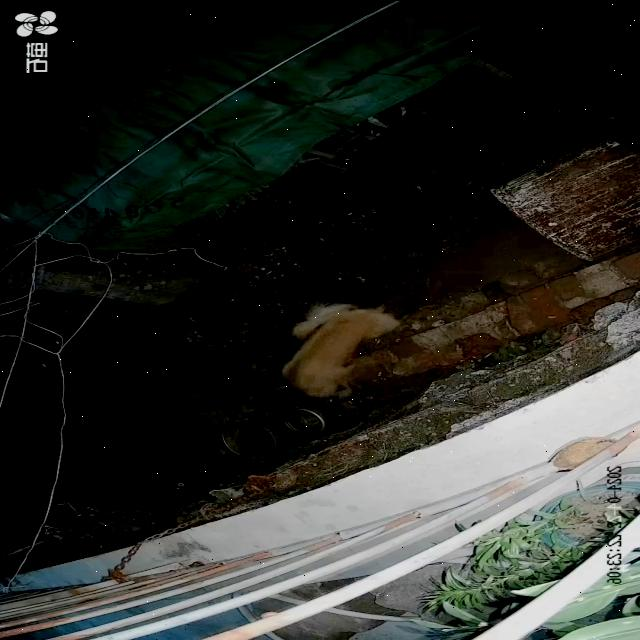dog: (280, 303, 402, 399)
